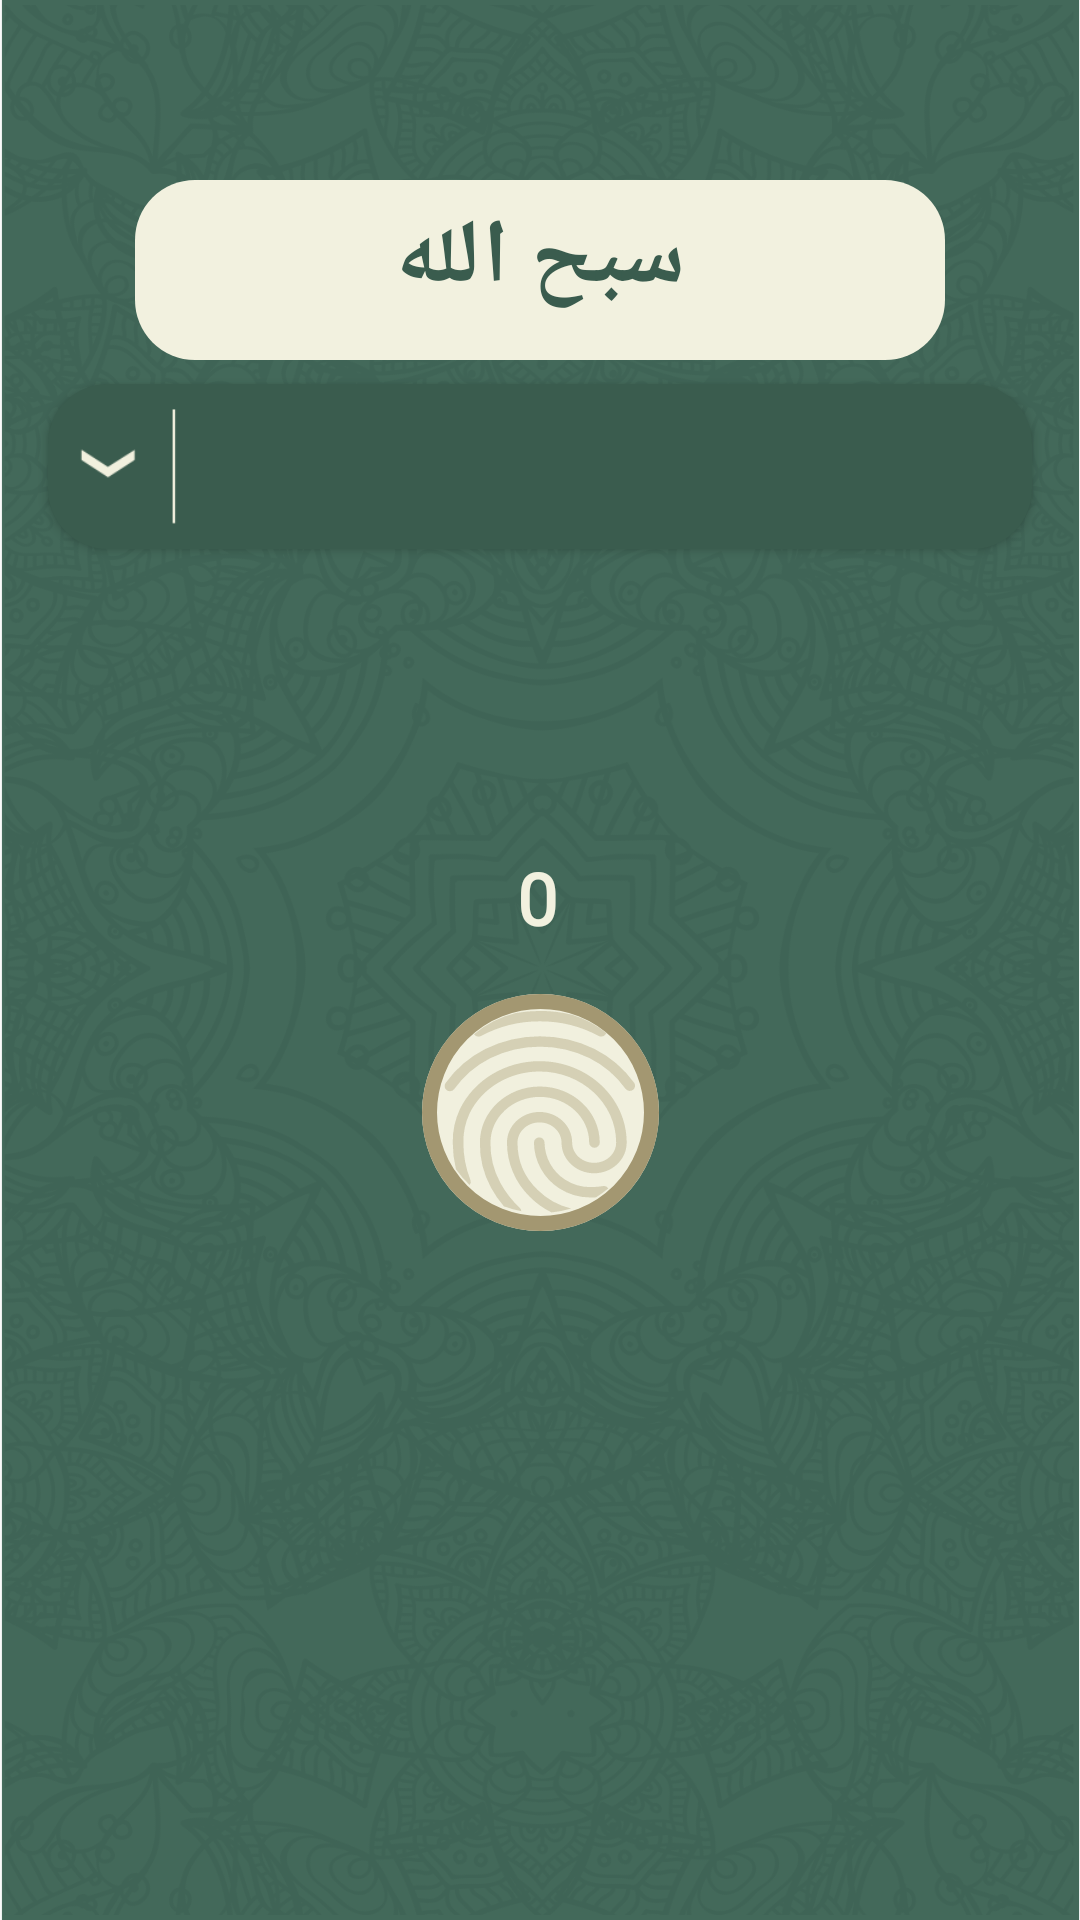

Screen size 1080x1920. Icon name, then its center in pixels as (x,y):
fingerprint: (540,1112)
